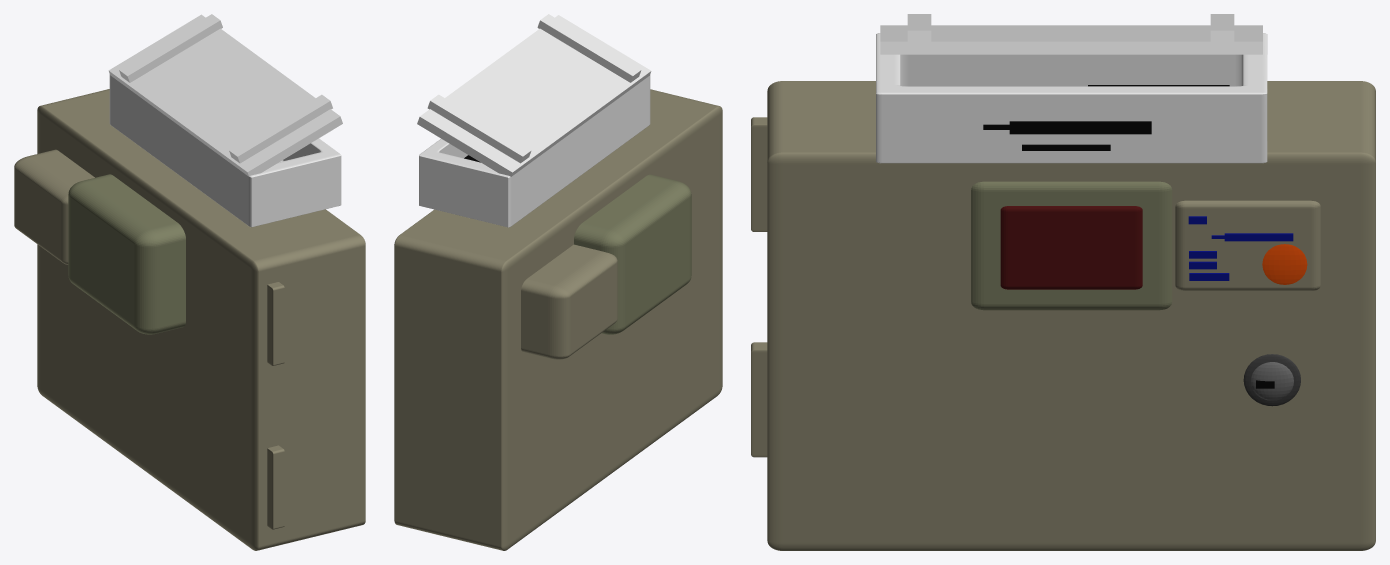
File: needleBoxER.fbx
3 views of the same model, side by side, from view 1: azimuth 30°, elevation 25°; view 2: azimuth 150°, elevation 25°; view 3: azimuth 270°, elevation 25° (orthographic). The views are drawn at different scales.
Visible parts, largest first — view 1: Cube, Cube.017, Cube.001, Cube.013, Cube.003, Cube.020, Cube.021, Cube.011, Cube.012; view 2: Cube, Cube.017, Cube.013, Cube.001, Cube.003, Cube.021, Cube.020; view 3: Cube, Cube.013, Cube.001, Cube.002, Cube.017, Cube.003, Cube.015, Cube.012, Cube.011, Sphere, Sphere.002, Sphere.001 (+2 smaller).
Boxes of the visible parts, <box> form: Cube: <box>37,89,365,550</box>; Cube.017: <box>108,14,342,176</box>; Cube.001: <box>68,174,185,334</box>; Cube.013: <box>109,74,341,227</box>; Cube.003: <box>14,149,94,264</box>; Cube.020: <box>229,94,332,163</box>; Cube.021: <box>119,14,222,82</box>; Cube.011: <box>267,282,284,365</box>; Cube.012: <box>267,445,284,529</box>; Cube: <box>394,89,722,550</box>; Cube.017: <box>417,15,651,176</box>; Cube.013: <box>419,75,650,227</box>; Cube.001: <box>574,174,691,334</box>; Cube.003: <box>521,244,617,359</box>; Cube.021: <box>427,94,531,163</box>; Cube.020: <box>537,14,641,82</box>; Cube: <box>767,81,1375,550</box>; Cube.013: <box>876,33,1267,163</box>; Cube.001: <box>971,181,1172,310</box>; Cube.002: <box>1000,206,1142,289</box>; Cube.017: <box>880,25,1262,54</box>; Cube.003: <box>1175,200,1320,290</box>; Cube.015: <box>1009,121,1151,134</box>; Cube.012: <box>751,342,767,457</box>; Cube.011: <box>751,117,767,231</box>; Sphere: <box>1262,244,1307,284</box>; Sphere.002: <box>1250,362,1293,400</box>; Sphere.001: <box>1243,354,1300,406</box>.
Size of the model in its own units: 180 by 387 by 413.
